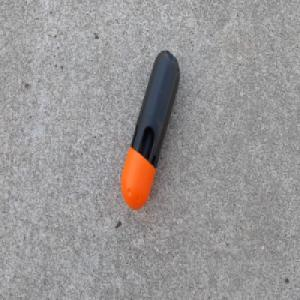PlasticPart: (119, 48, 179, 211)
